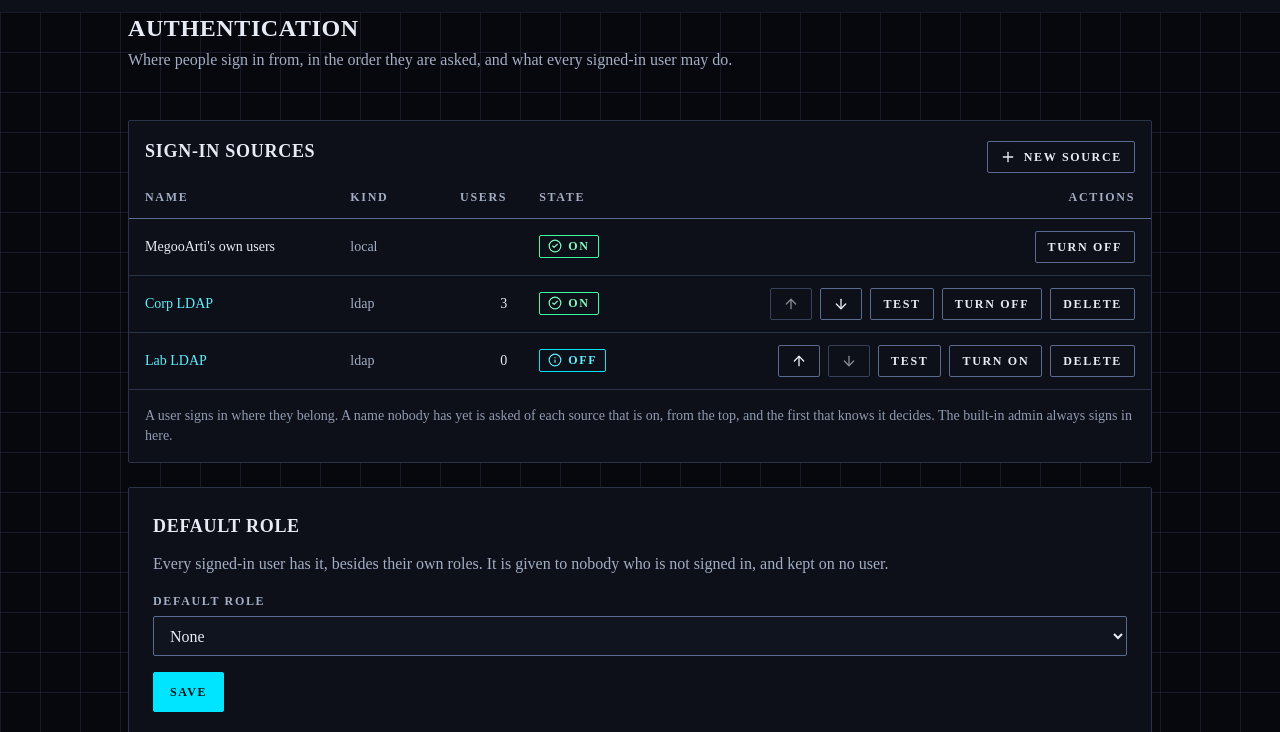
Test case: the sign-in sources (SEC-15) › are moved by sending the whole order, and shown in the order the server answers
Click the button named "Move Lab LDAP up": coordinates (799, 361) [778,345,820,377]
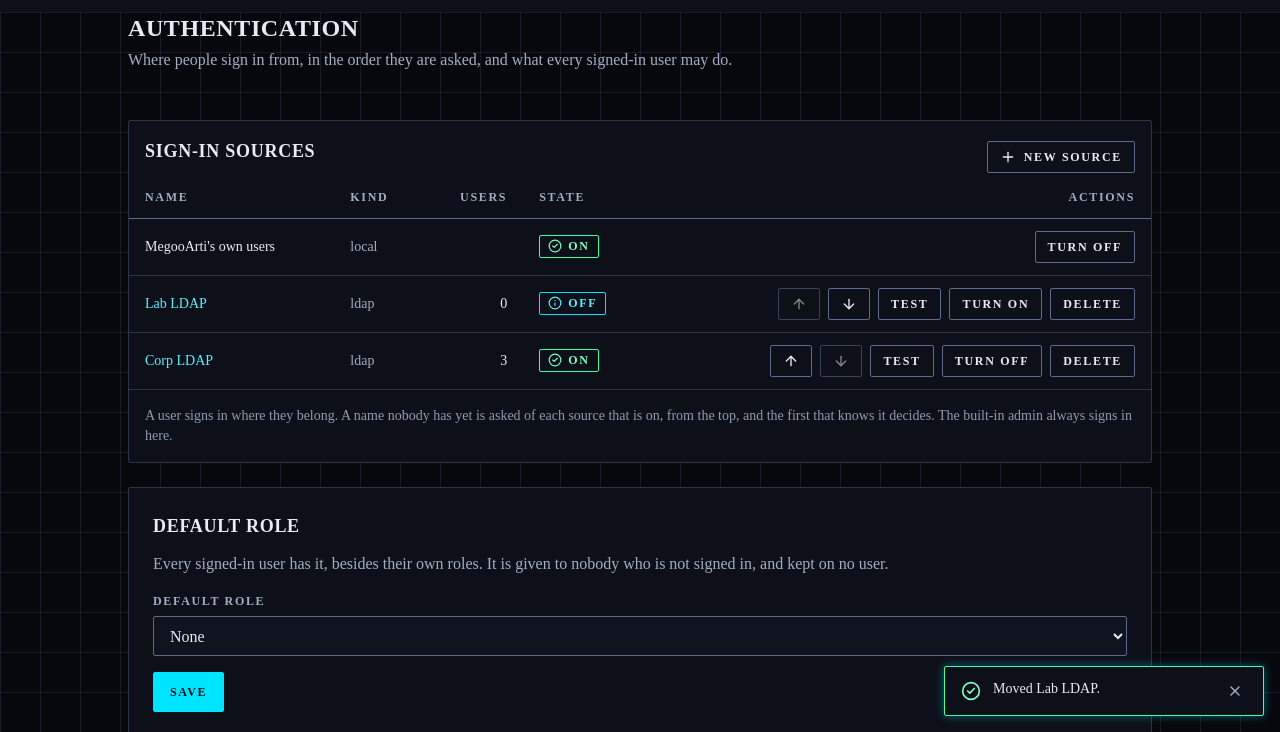
Check: the element named "Notifications" reads "Moved Lab LDAP.", box [993,681,1100,696]
